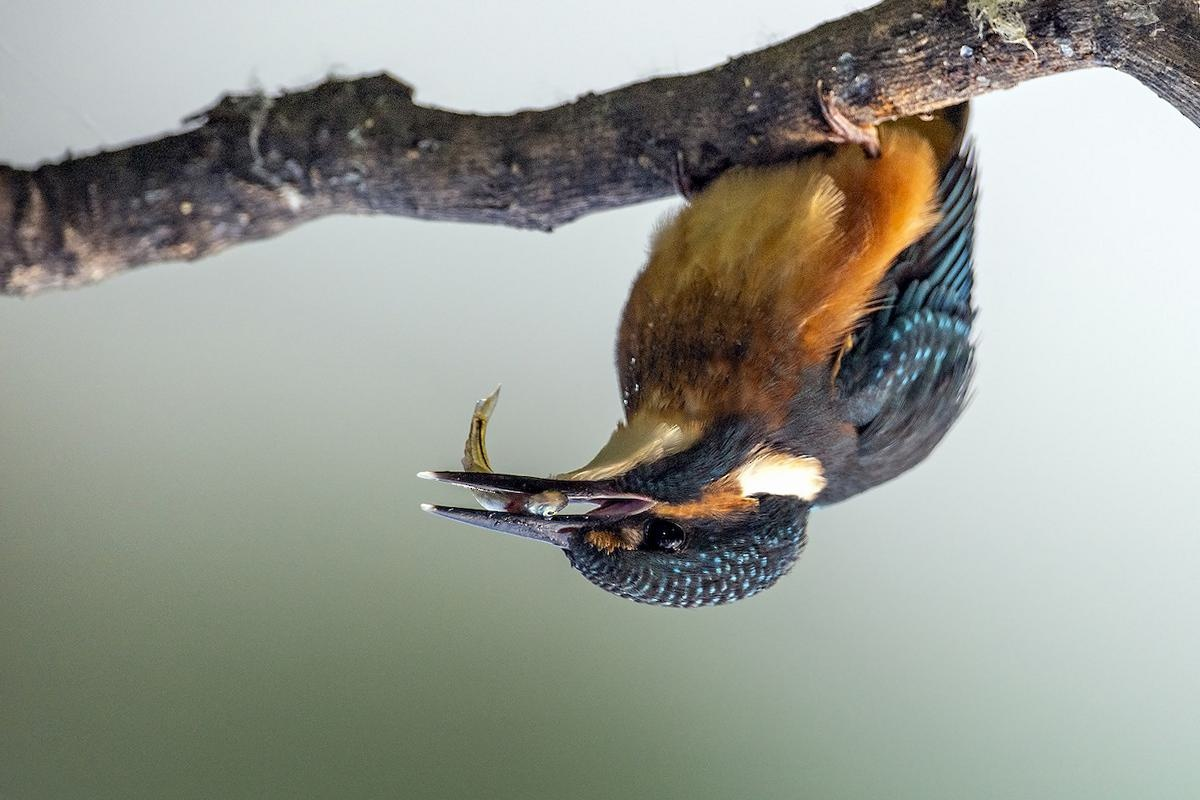kingfisher: (384, 77, 1071, 620)
